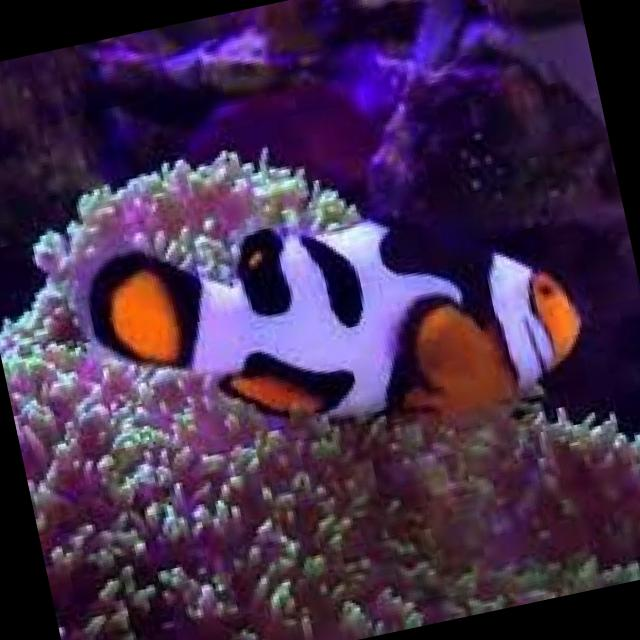ClownFish: (70, 157, 595, 505)
